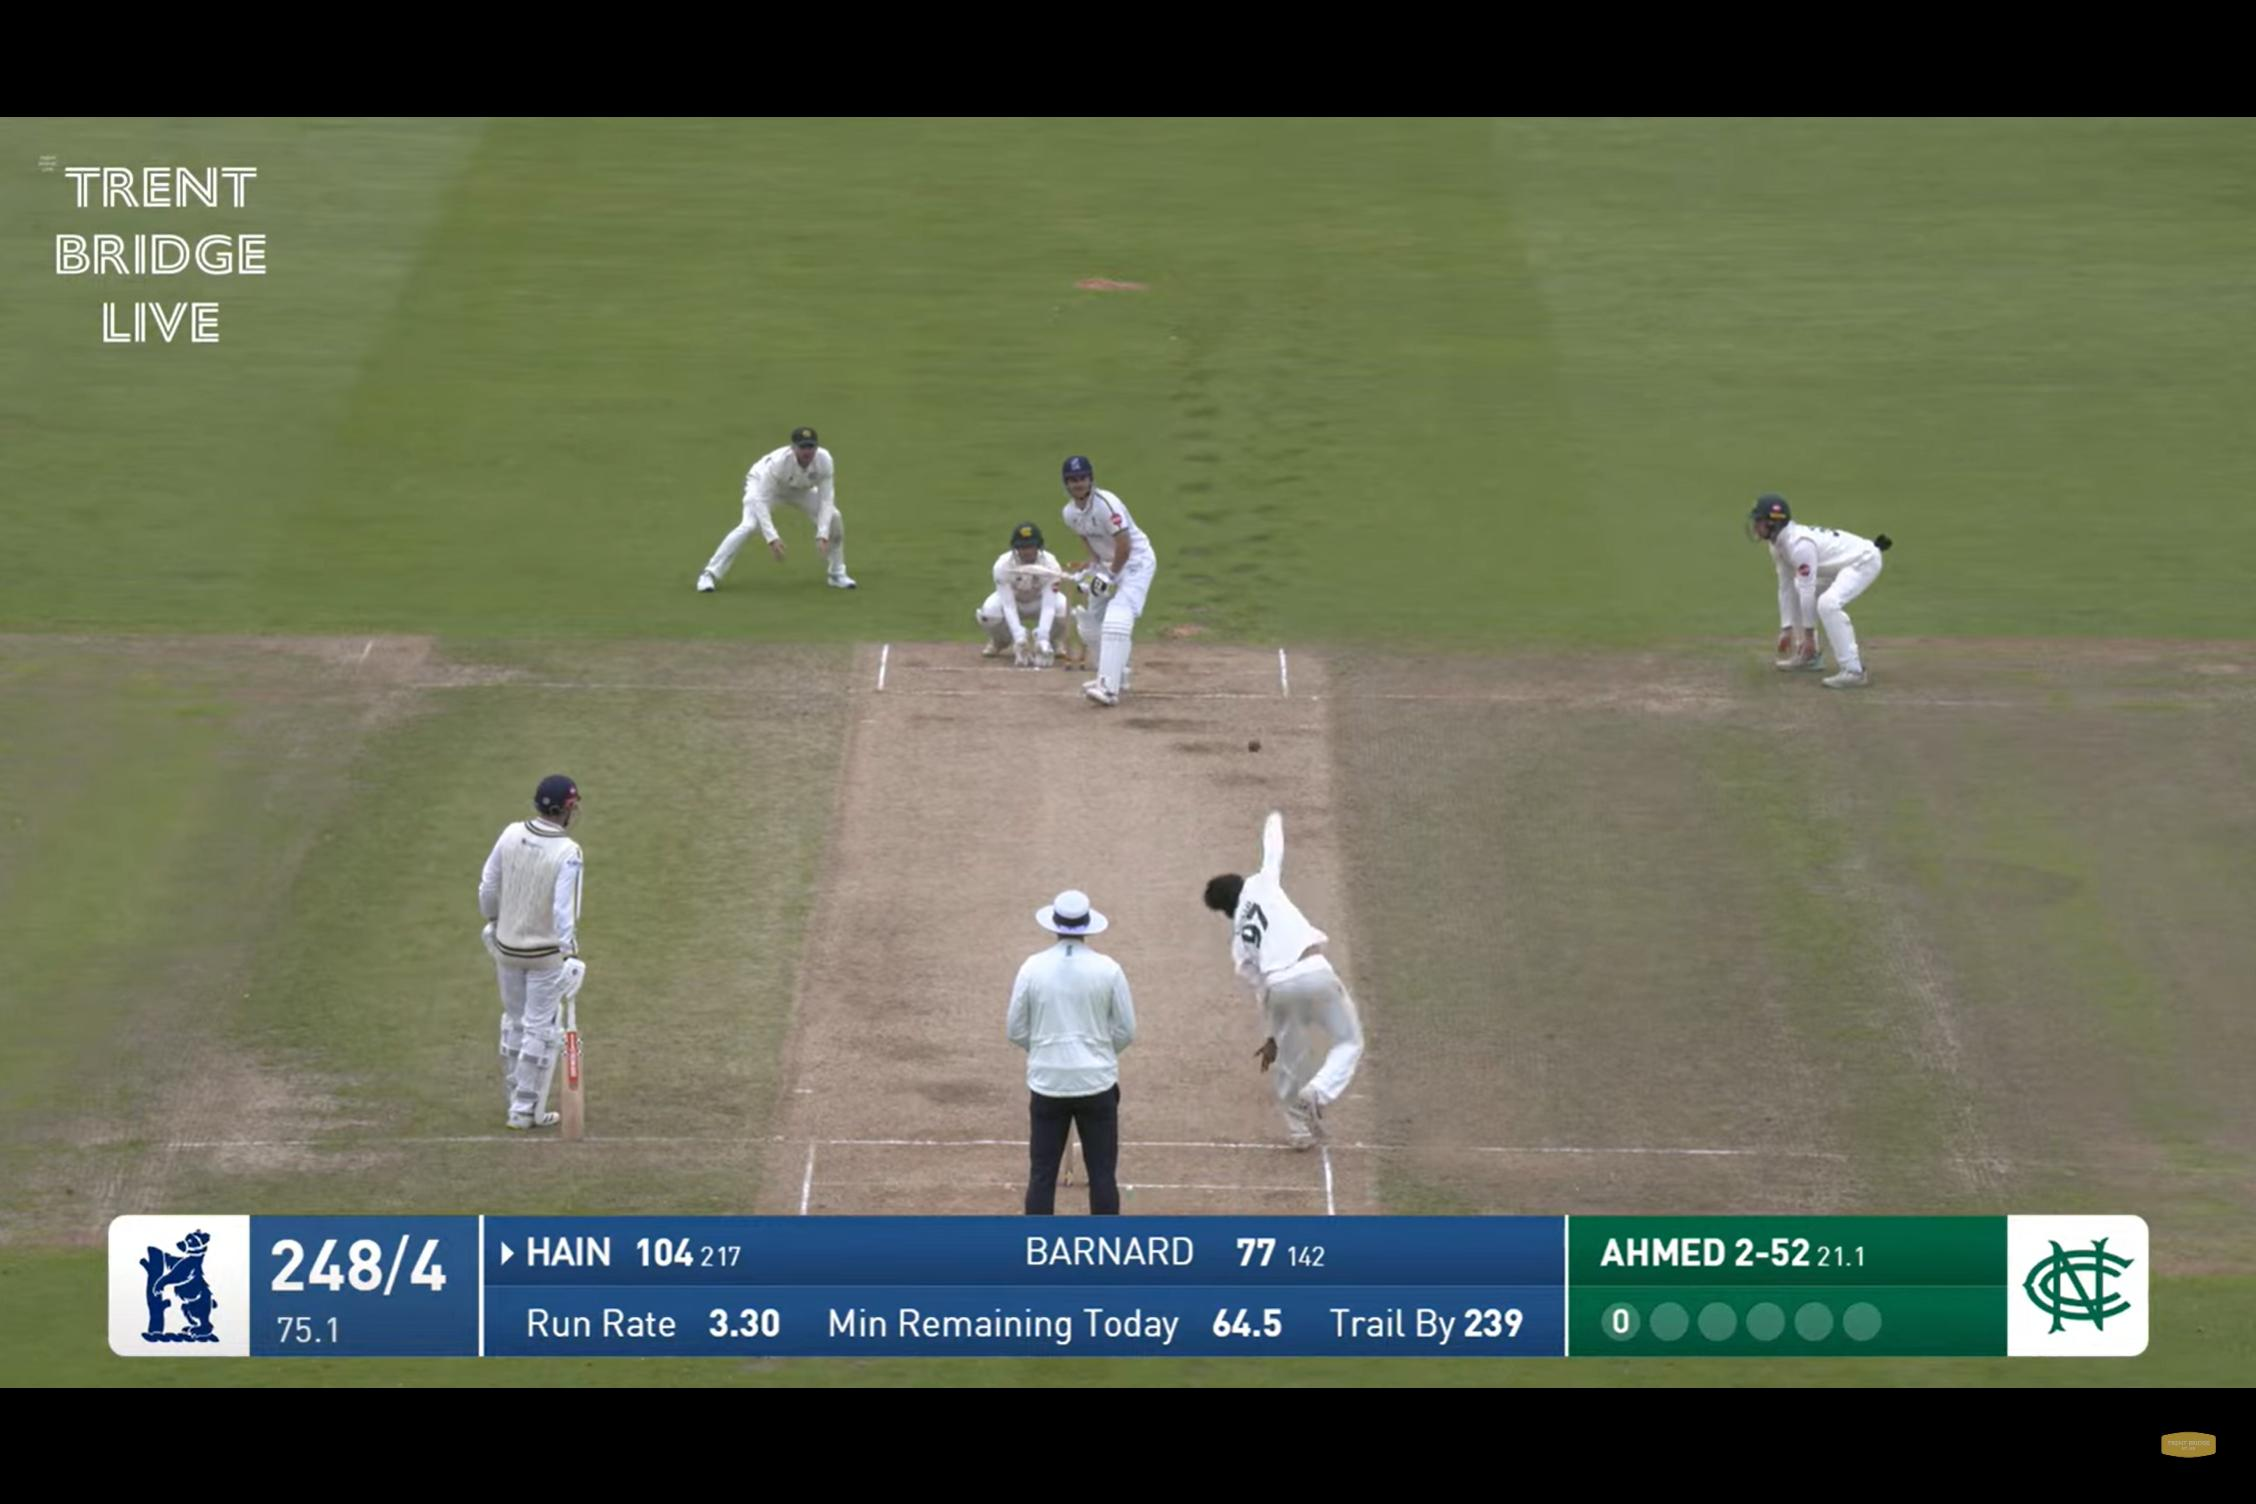batsman: (1026, 426, 1187, 710)
bowler running in: (1195, 744, 1381, 1177)
non striker: (406, 749, 646, 1153)
umpire: (980, 868, 1155, 1219)
